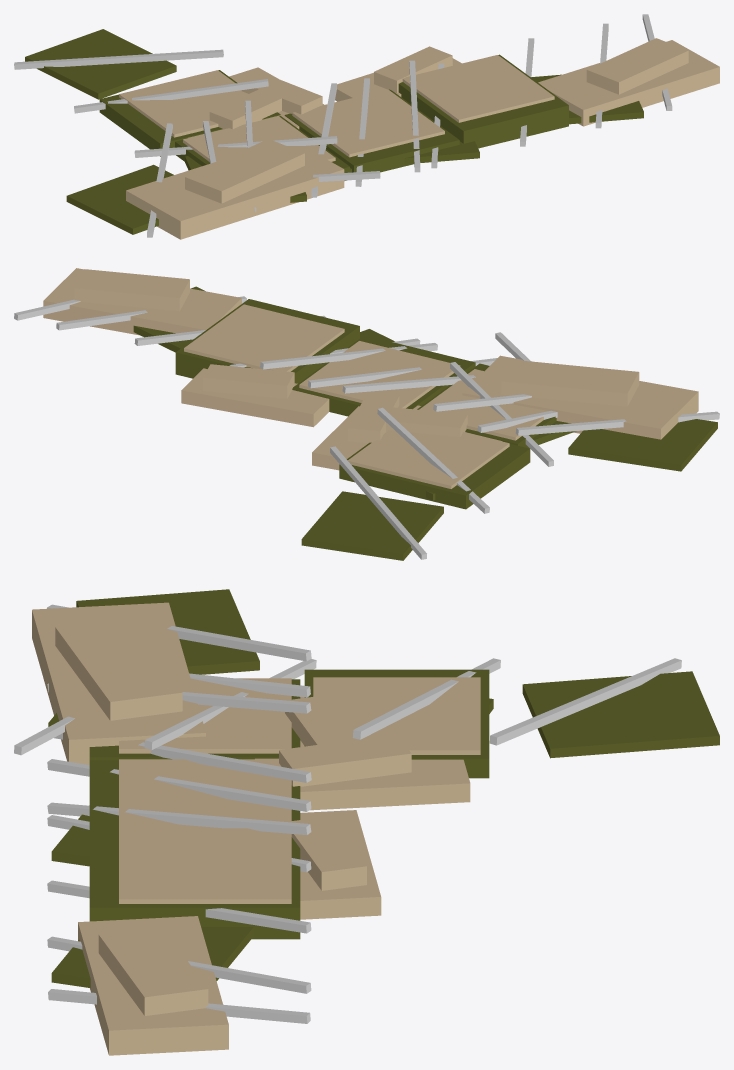
The model's file is SM_HescoRemate_v1_Geotextil_e3_Brecha_LOD0.fbx.
3 renders of one model, top to bottom at view 1: azimuth 30°, elevation 25°; view 2: azimuth 150°, elevation 25°; view 3: azimuth 270°, elevation 25°, orthographic. The views are drawn at different scales.
Visible parts, largest first — view 1: SM_hesco_piezas_v27_LOD0; view 2: SM_hesco_piezas_v27_LOD0; view 3: SM_hesco_piezas_v27_LOD0.
Boxes of the visible parts, x1,y1,x2,y2 form: SM_hesco_piezas_v27_LOD0: (14, 14, 719, 239); SM_hesco_piezas_v27_LOD0: (14, 268, 719, 560); SM_hesco_piezas_v27_LOD0: (14, 589, 719, 1055).
Bounding box in the file's own units: 6.23 × 0.3263 × 4.09.
